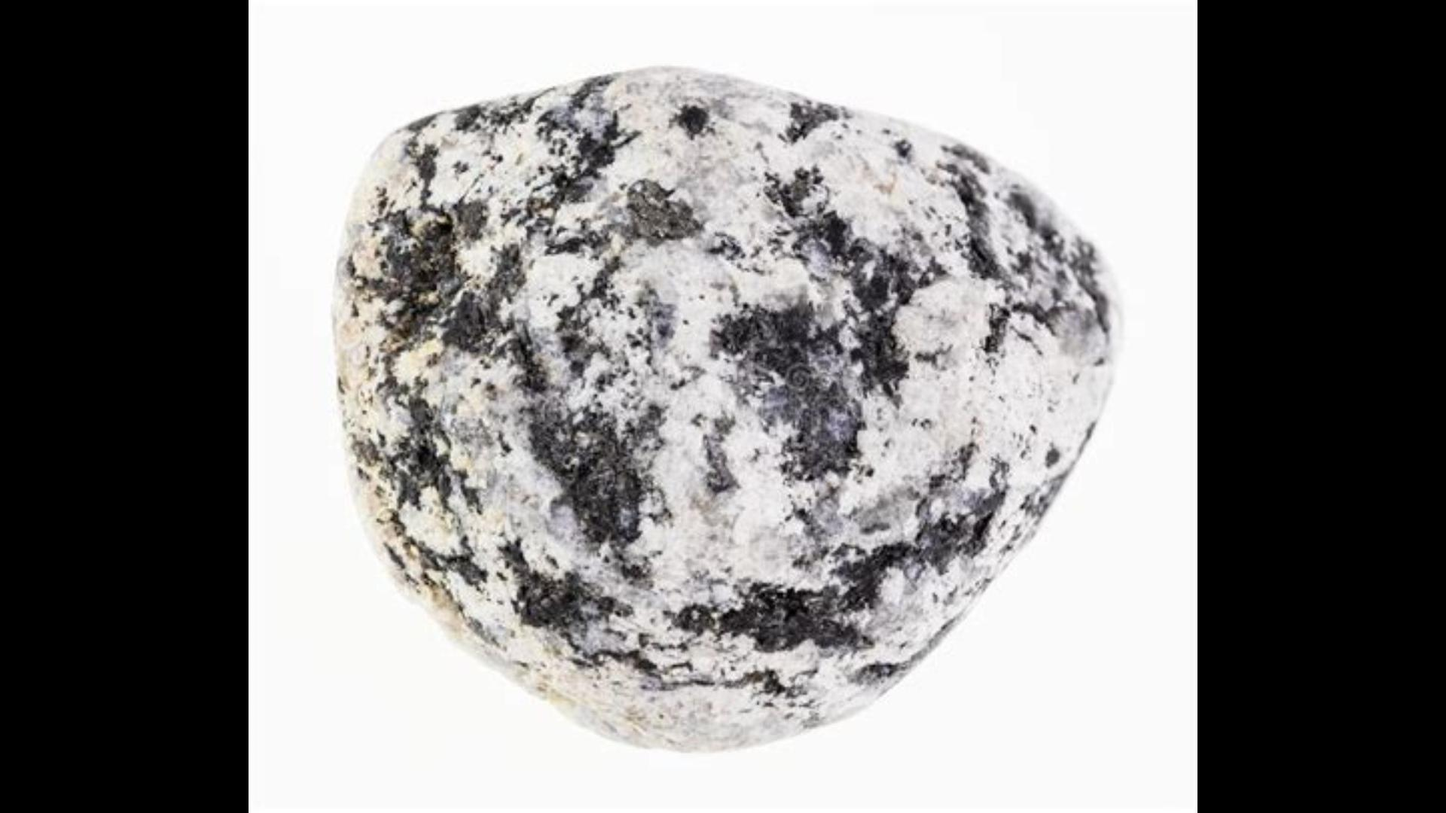rock: (337, 68, 1118, 747)
